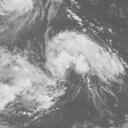cyclone: (45, 27, 125, 85)
